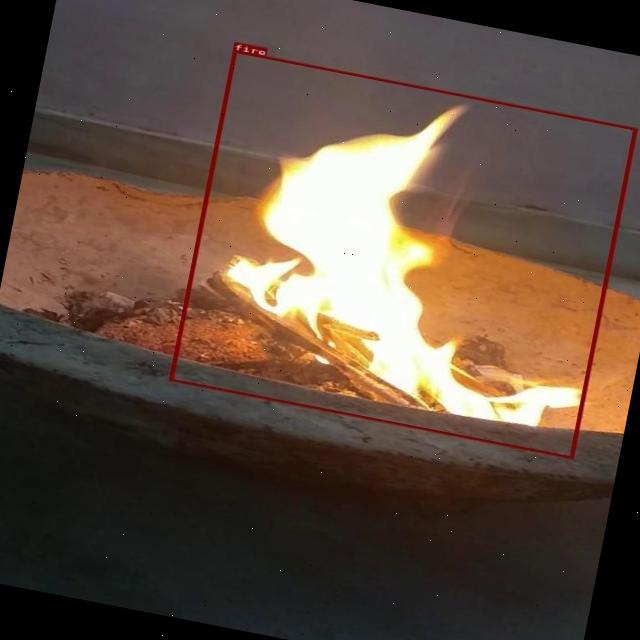fire: (168, 51, 636, 458)
